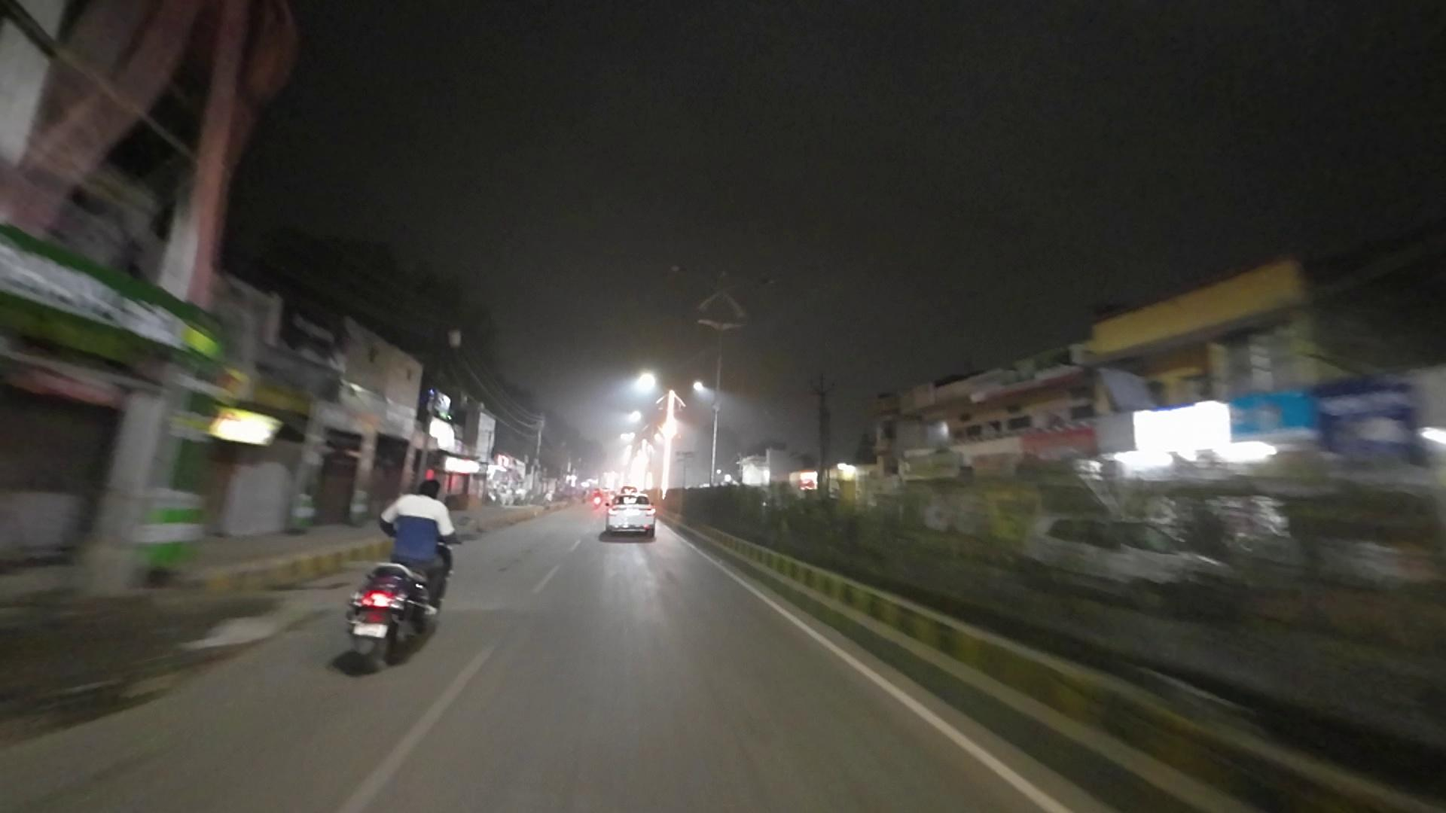streetlight: (670, 263, 715, 288), (729, 275, 782, 290)
